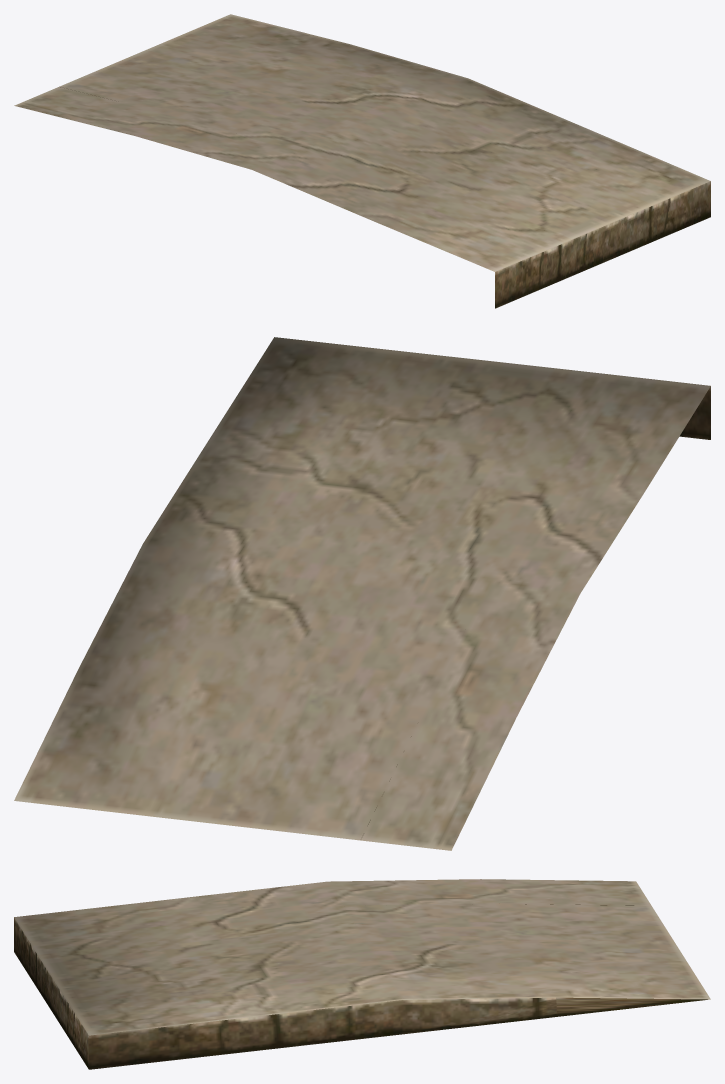
Rendered from HTOWN01_HANNA-PORCH.fbx.
3 views of the same model, one above another, from view 1: azimuth 30°, elevation 25°; view 2: azimuth 150°, elevation 25°; view 3: azimuth 270°, elevation 25° (orthographic). The views are drawn at different scales.
Parts seen in each view (by area): view 1: HTOWN01_HANNA-PORCH; view 2: HTOWN01_HANNA-PORCH; view 3: HTOWN01_HANNA-PORCH.
Part boxes in pixels (x1,y1,x2,y2): HTOWN01_HANNA-PORCH: (14, 14, 710, 308); HTOWN01_HANNA-PORCH: (14, 337, 710, 850); HTOWN01_HANNA-PORCH: (14, 879, 710, 1069).
Size of the model in its own units: 36740 by 3156 by 57307.
Materials: 2 (2 with a texture image).
